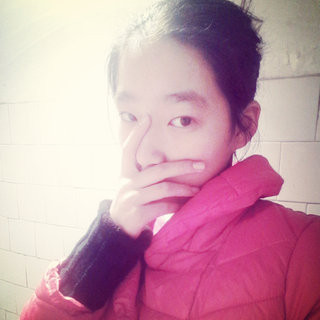face: (114, 37, 227, 201)
